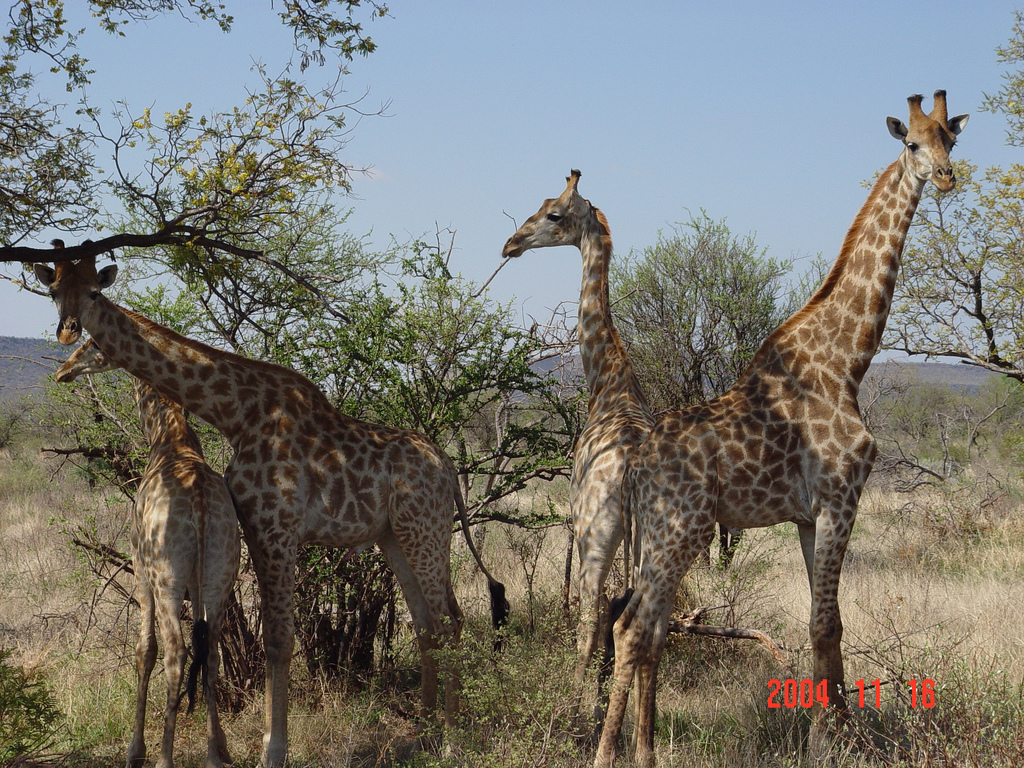giraffe: (640, 68, 993, 709), (25, 221, 470, 685), (501, 154, 702, 727), (122, 388, 262, 746)
